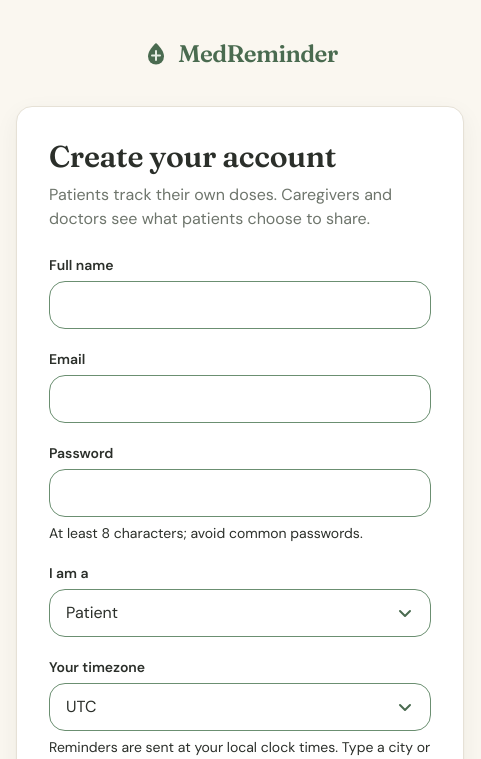
it: RegisterPage › shows the server's field errors next to the right fields
Type "taken@example.com" into the field labelled "Email". click: (240, 399)
box: [49, 375, 431, 423]
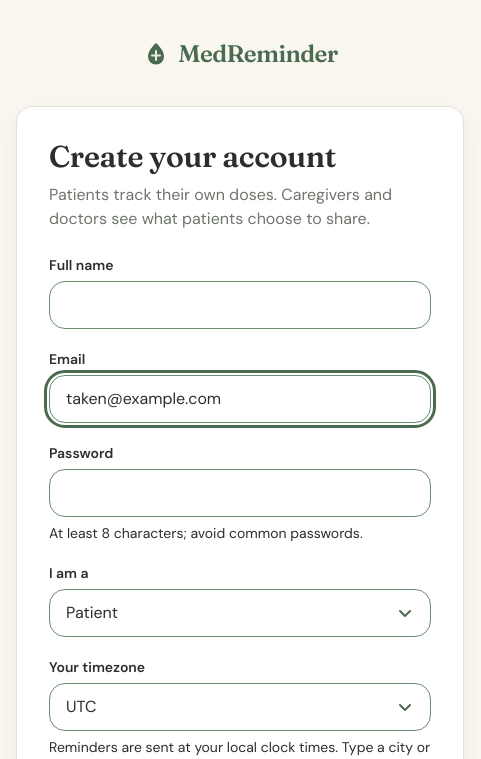
Type "password" into the password field labelled "Password". click: (240, 493)
box: [49, 469, 431, 517]
(page scrolled)
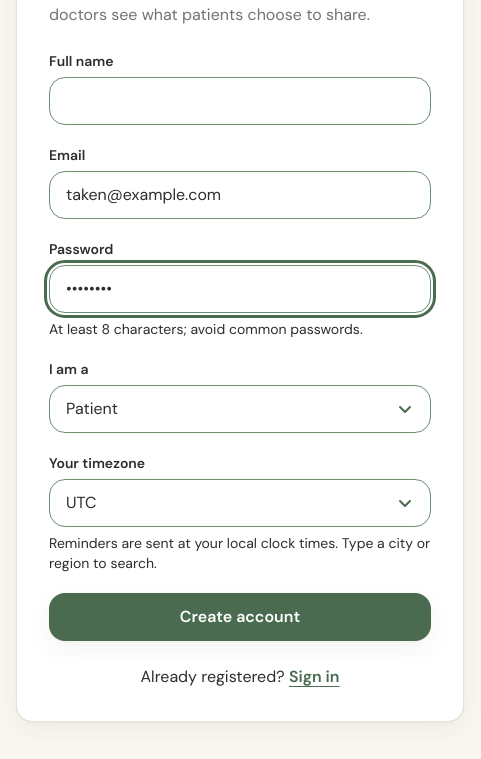
Click the button "Create account". click: (240, 617)
box: [49, 593, 431, 641]
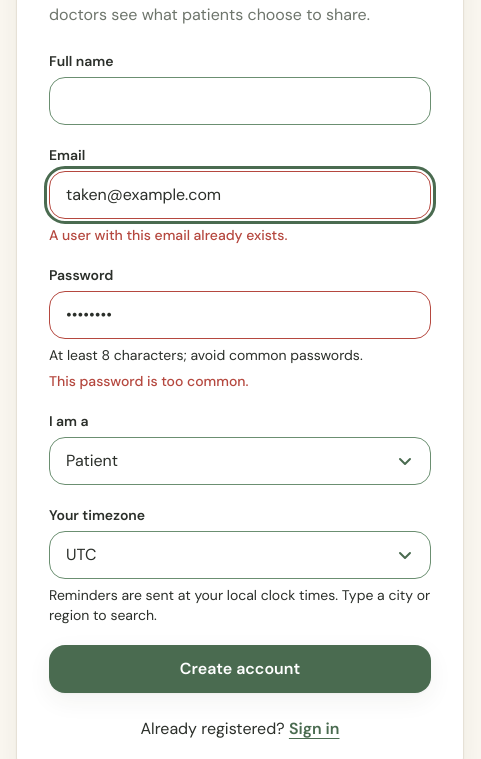
expect the button "Create account" is enabled: met, box [49, 645, 431, 693]
expect the text "A user with this email already exists." is shown: met, box [49, 226, 287, 244]
